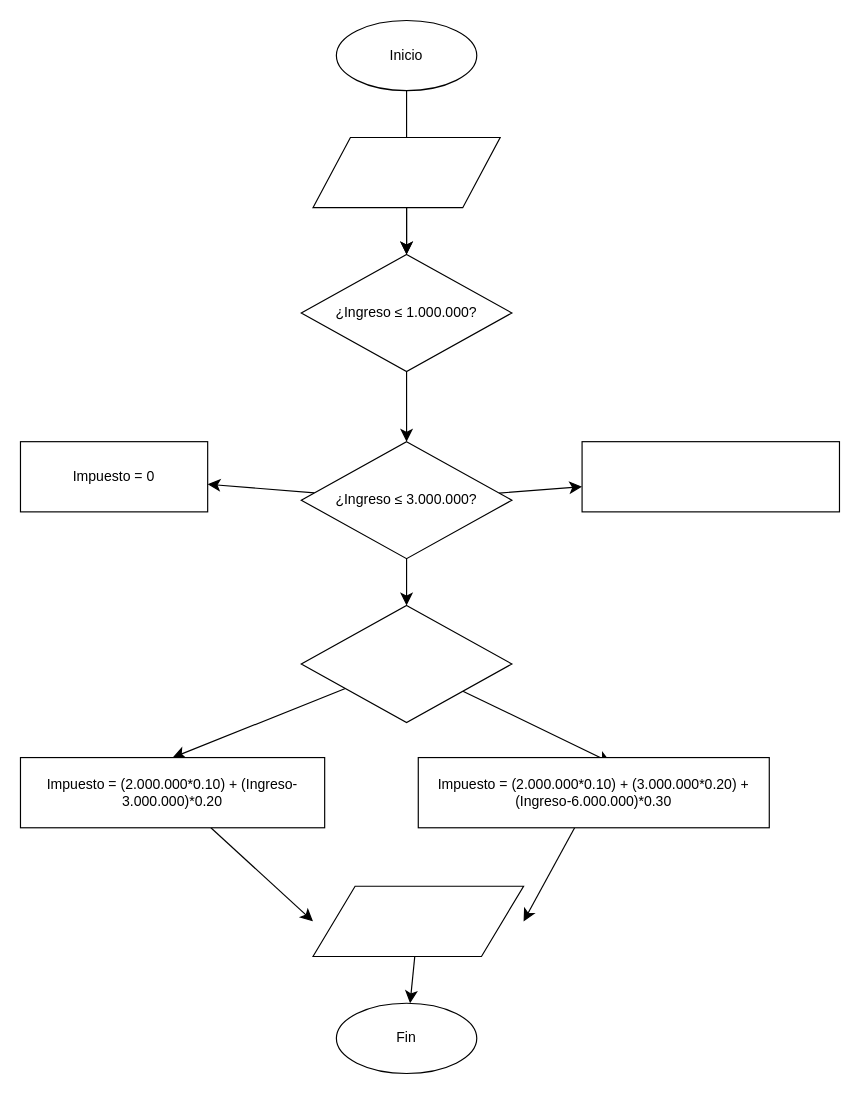
Some shapes in this 860 by 1094 pixel diagram are drawn without their labels. The centre of each missing label's shape, as x and y in pixels:
Impuesto = (Ingreso - 1.000.000) * 0.10: the point at 710,476
Leer ingreso: the point at 406,172
Mostrar Impuesto: the point at 418,920
¿Ingreso ≤ 6.000.000?: the point at 406,663
